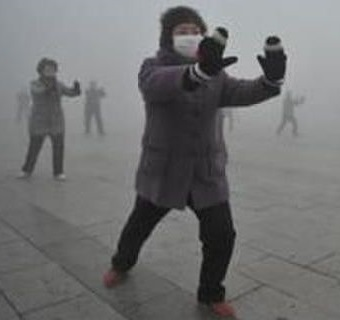person: (101, 4, 291, 320), (16, 54, 75, 187), (78, 76, 112, 136), (275, 90, 305, 136), (17, 85, 31, 120)
